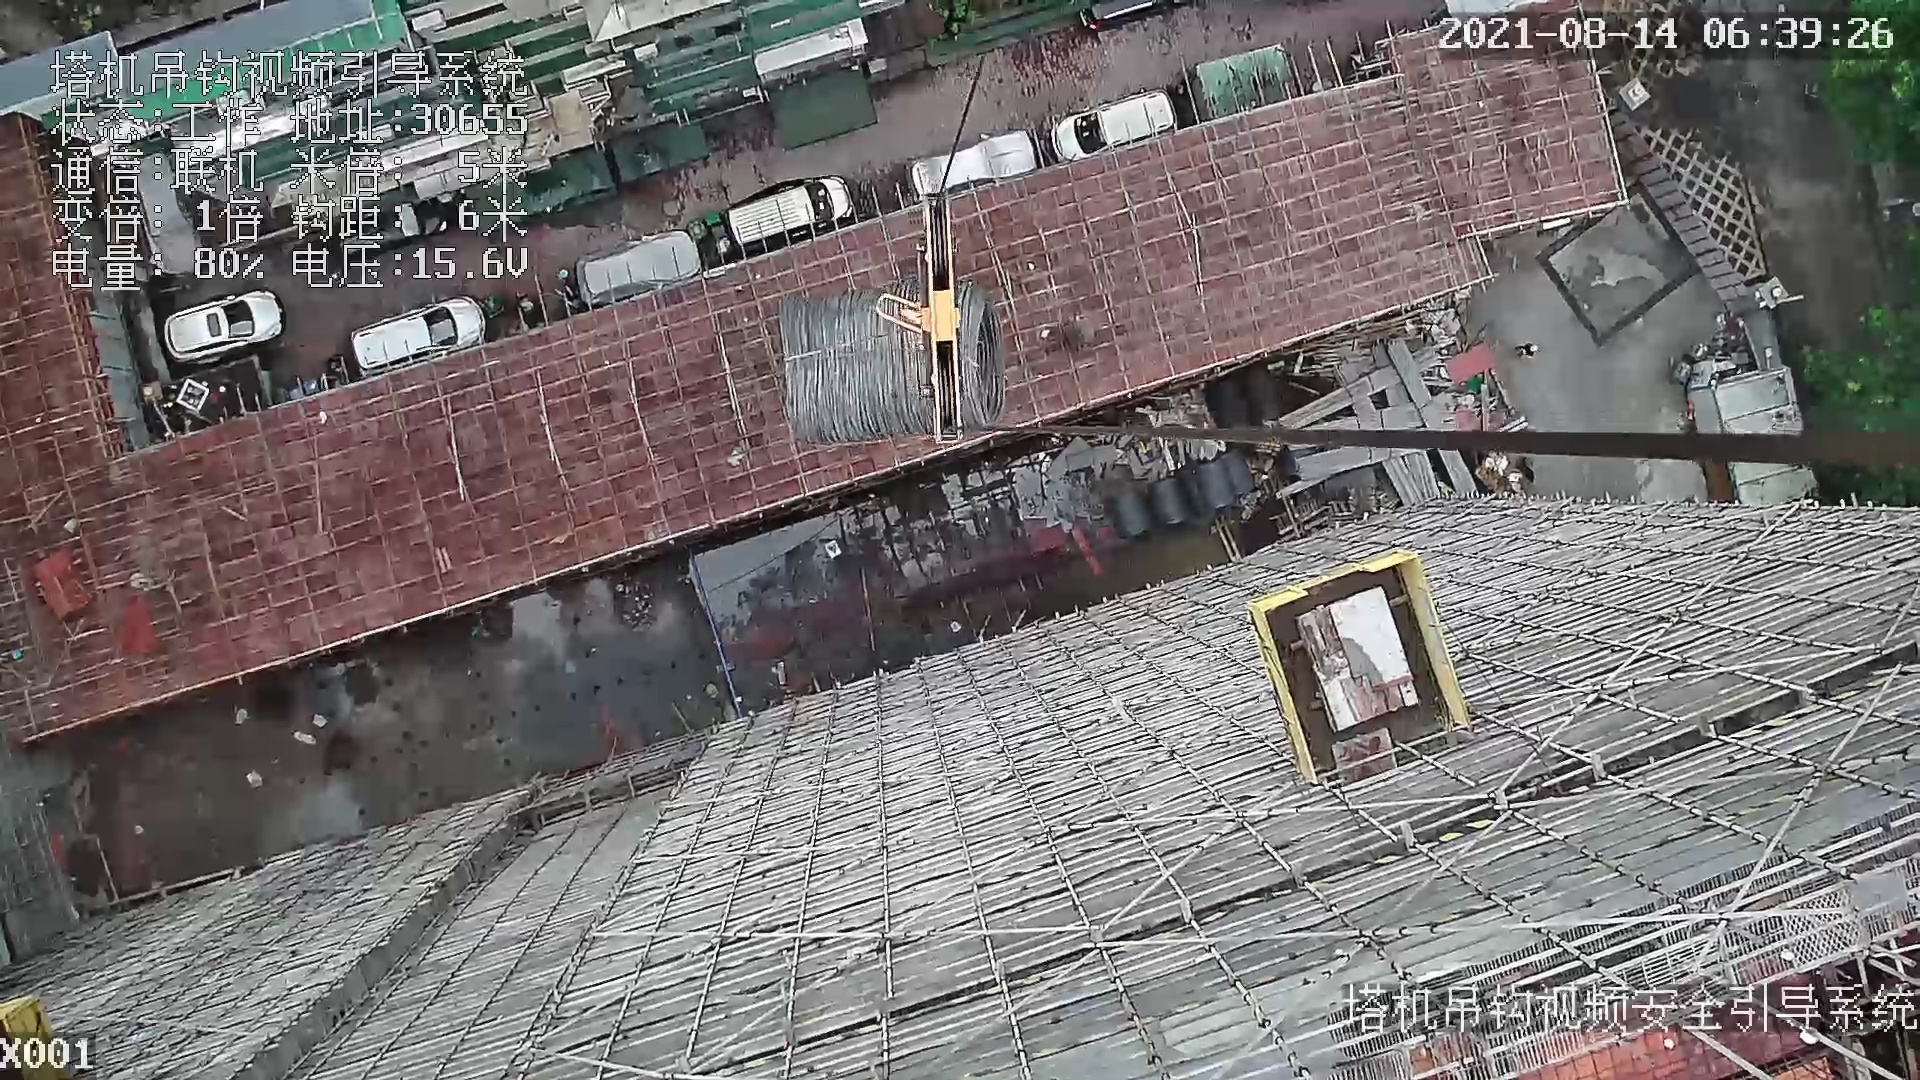hook: (876, 200, 975, 450)
